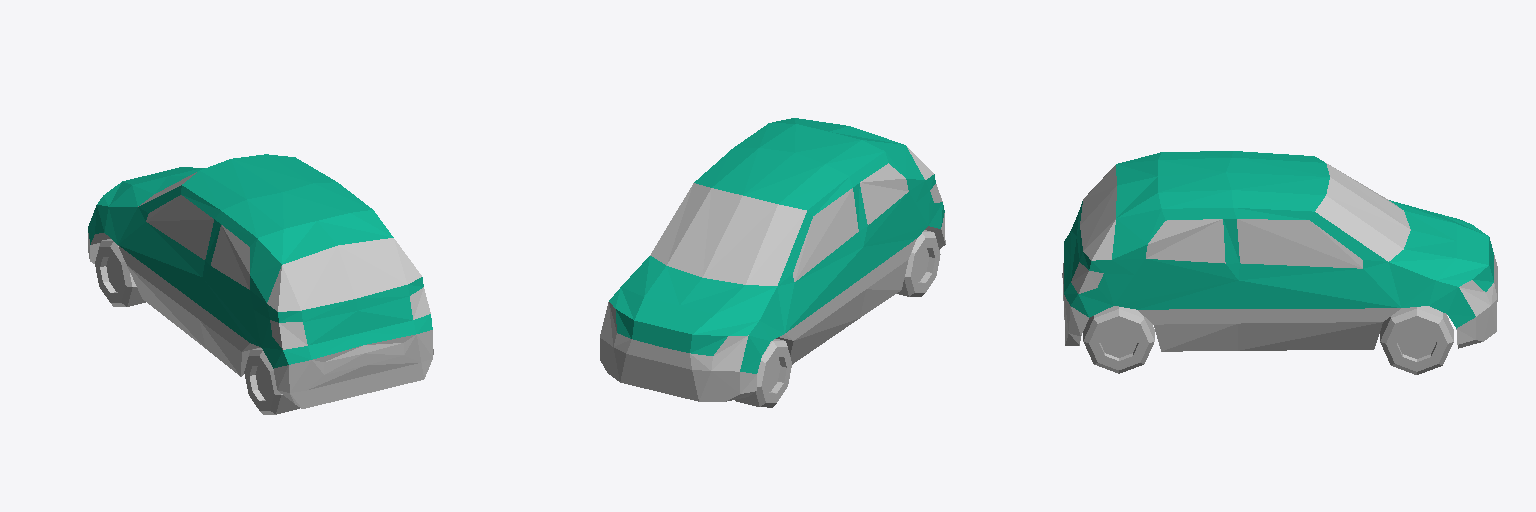
3 views of the same model, side by side, from view 1: azimuth 30°, elevation 25°; view 2: azimuth 150°, elevation 25°; view 3: azimuth 270°, elevation 25° (orthographic).
Visible parts, largest first — view 1: Car_Carrosserie, Car_Base; view 2: Car_Carrosserie, Car_Base; view 3: Car_Carrosserie, Car_Base.
Part boxes in pixels (bbox=[...]): Car_Carrosserie: bbox=[88, 154, 432, 368]; Car_Base: bbox=[88, 172, 433, 414]; Car_Carrosserie: bbox=[609, 118, 944, 373]; Car_Base: bbox=[600, 147, 945, 407]; Car_Carrosserie: bbox=[1064, 151, 1493, 328]; Car_Base: bbox=[1062, 163, 1497, 374].
Size of the model in its own units: 1.94 by 1.98 by 4.67.
3 materials, 1 textured.